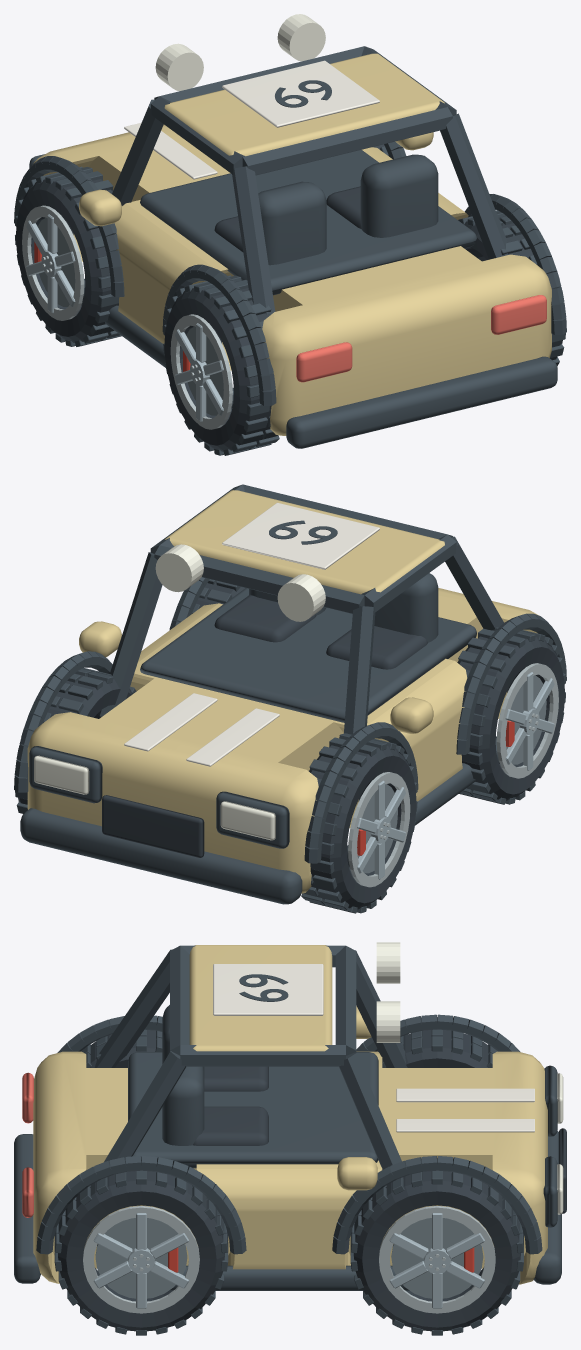
Rendered from car_buggy.glb.
The picture shows the model from 3 angles, top to bottom: view 1: azimuth 30°, elevation 25°; view 2: azimuth 150°, elevation 25°; view 3: azimuth 270°, elevation 25°; orthographic projection.
Parts seen in each view (by area): view 1: Body.007, WheelMesh.030, WheelMesh.028, WheelMesh.031; view 2: Body.007, WheelMesh.028, WheelMesh.030, WheelMesh.029, WheelMesh.031; view 3: Body.007, WheelMesh.031, WheelMesh.029, WheelMesh.028, WheelMesh.030.
Part boxes in pixels (x1,y1,x2,y2): Body.007: [14, 14, 566, 448]; WheelMesh.030: [163, 275, 279, 455]; WheelMesh.028: [15, 166, 121, 346]; WheelMesh.031: [458, 210, 565, 366]; Body.007: [14, 484, 566, 904]; WheelMesh.028: [301, 733, 417, 913]; WheelMesh.030: [457, 627, 565, 804]; WheelMesh.029: [15, 668, 136, 813]; WheelMesh.031: [169, 579, 245, 628]; Body.007: [14, 942, 566, 1290]; WheelMesh.031: [54, 1158, 228, 1335]; WheelMesh.029: [350, 1170, 523, 1335]; WheelMesh.028: [377, 1029, 497, 1067]; WheelMesh.030: [81, 1029, 162, 1067].
Size of the model in its own units: 2.64 by 2.11 by 3.71.
